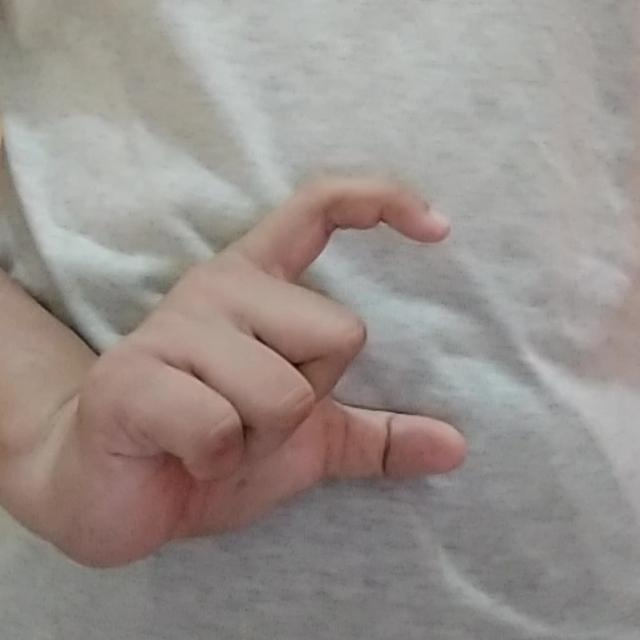C: (44, 168, 477, 579)
